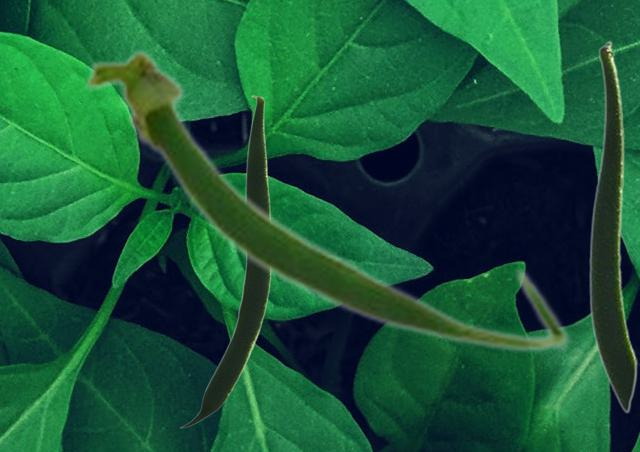french_bean: (81, 45, 571, 354), (179, 95, 270, 427), (588, 40, 637, 413)
